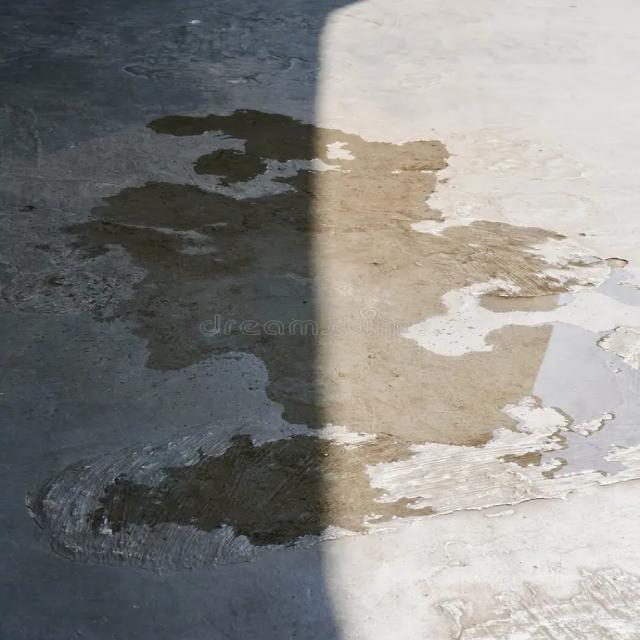water accumulation: (60, 103, 640, 539)
